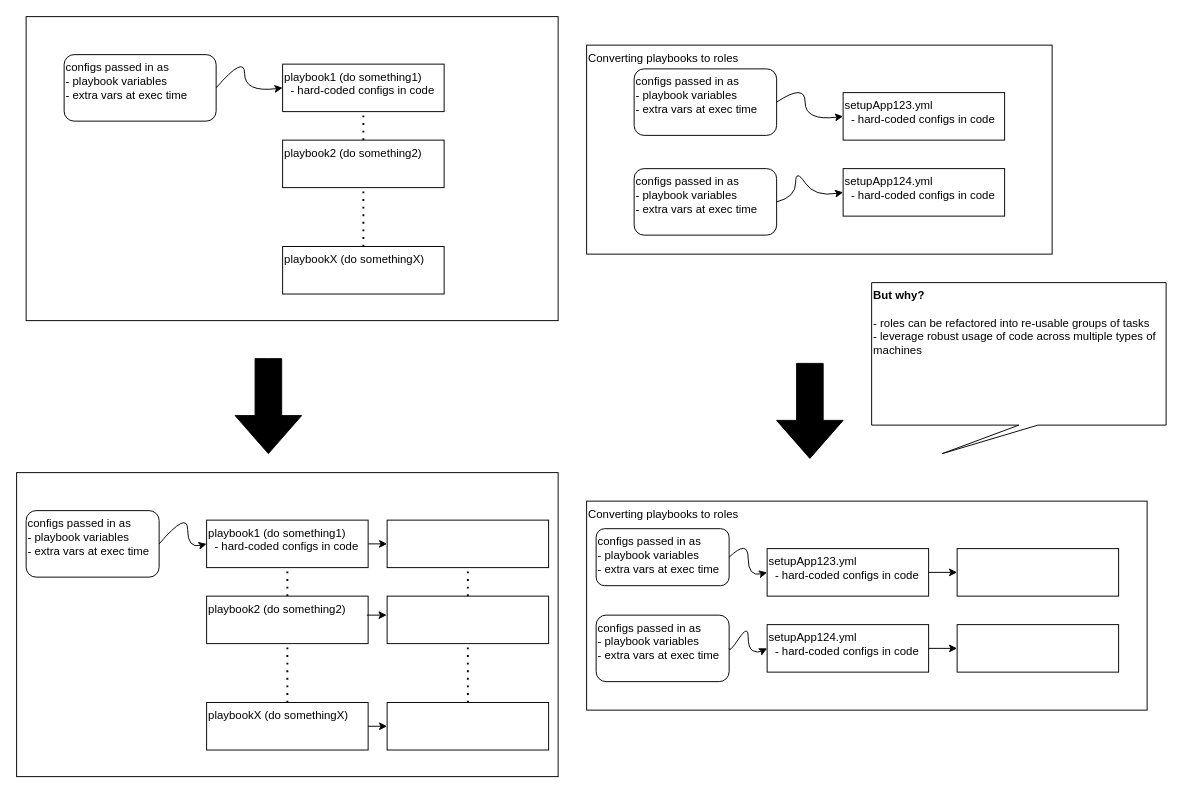
Image size: 1183x793. Some labels were removed from this diagram. The box of each missing label's shape, as (x1, y1, x2, y2) in pixels:
Evolution of automation (Day 2) - ansible playbooks converted to ansible roles: (25, 16, 558, 321)
Evolution of automation (Day 3) - ansible playbooks converted to ansible roles: (16, 472, 558, 777)
role1 (do something1) - hard-coded configs in role: (386, 519, 549, 568)
role2 (do something2): (386, 595, 549, 644)
roleX (do somethingX): (386, 702, 549, 750)
setupApp123Role - hard-coded configs in code: (956, 548, 1119, 596)
setupApp124Role - hard-coded configs in code: (956, 624, 1119, 672)
